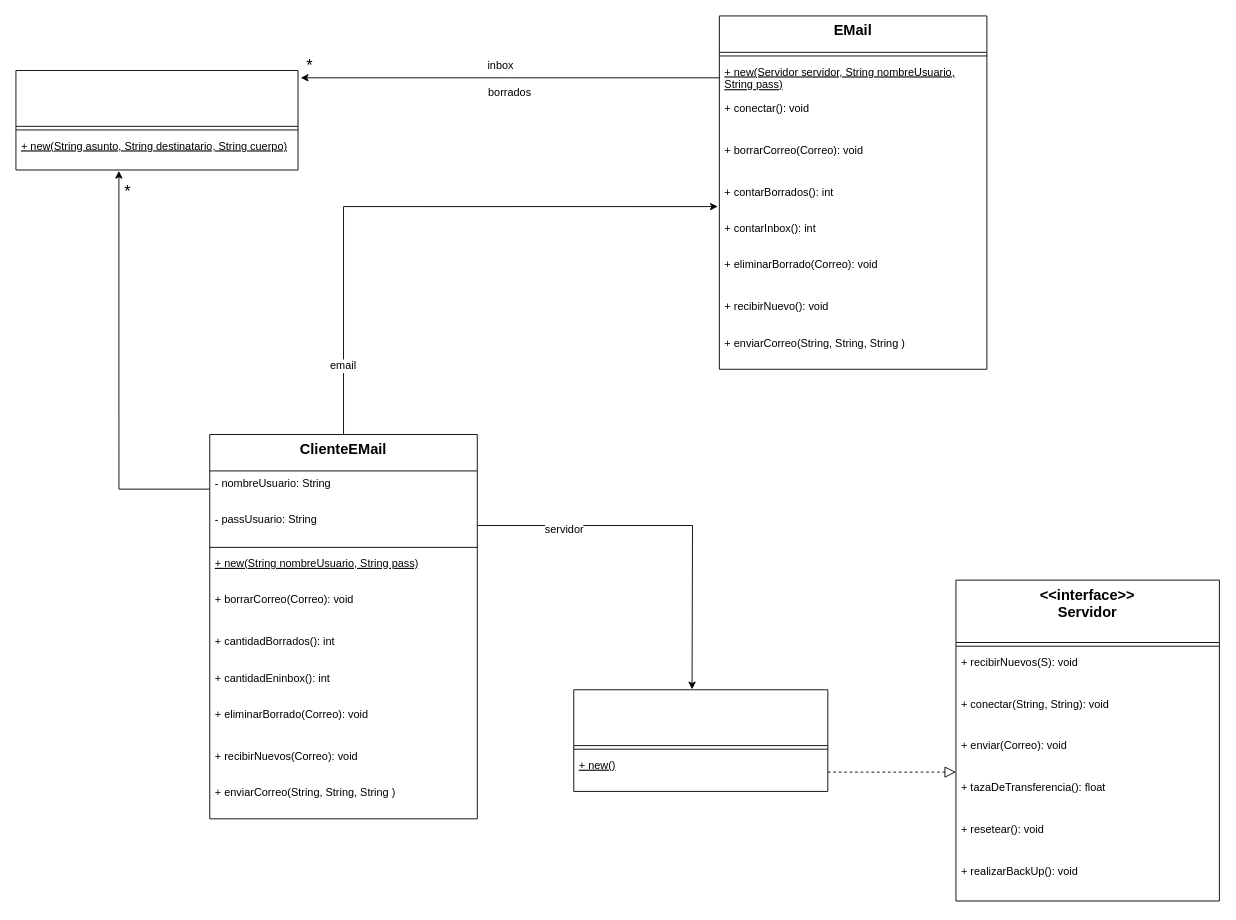
The diagram is 1236 pixels wide and 920 high, and some of its shapes have lost their labels. Each missing label, with the box of its shape:
Correo: (15, 70, 298, 170)
ServidorPop: (573, 689, 828, 791)
